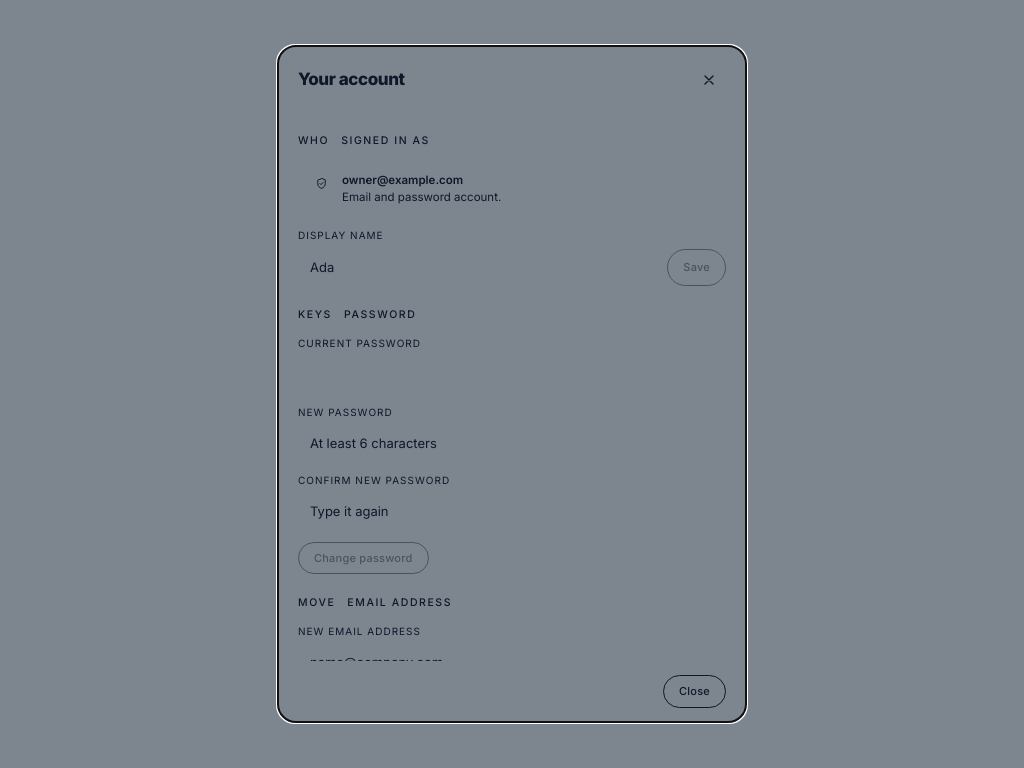
Test: when something fails › reports a success as a status
Replace the text in the field labelled "Display name" with "Ada Lovelace" at (479, 267), box x1=298 y1=249 x2=659 y2=286
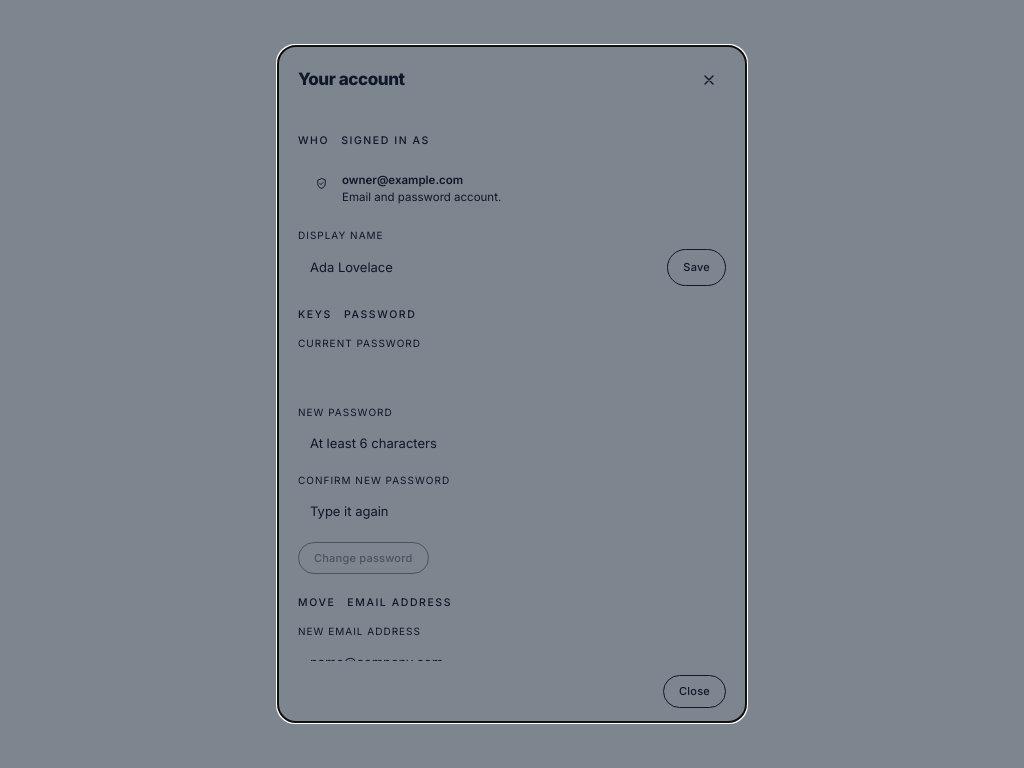
Click the button "Save" at (697, 267), box x1=667 y1=249 x2=726 y2=286
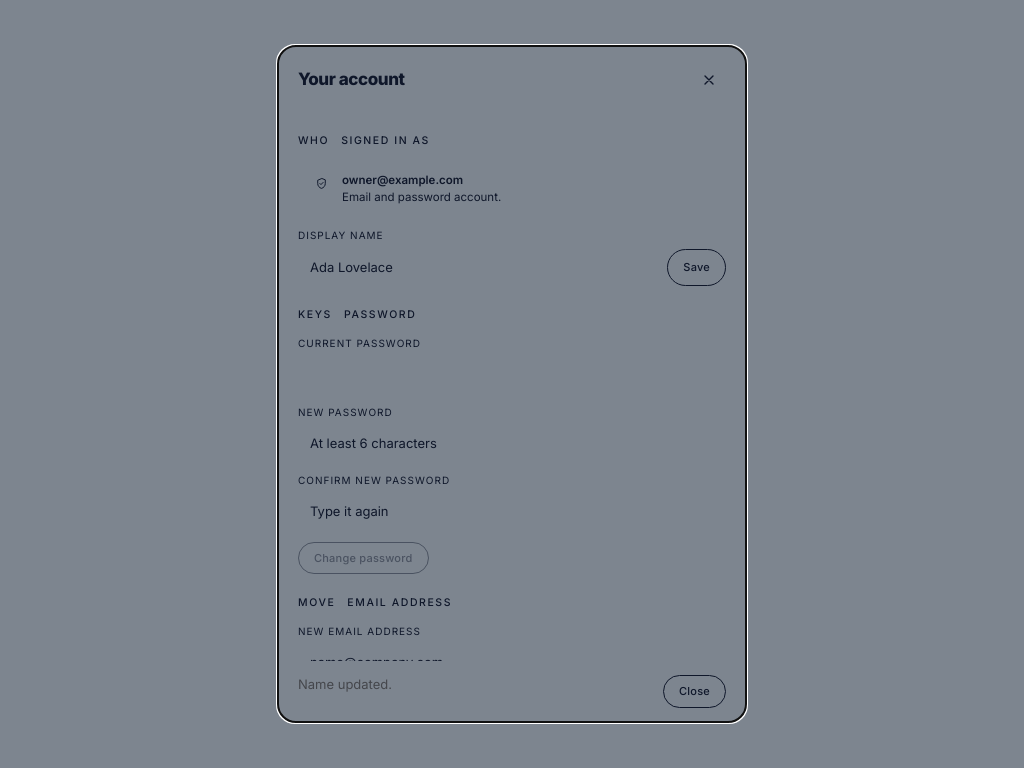
Check: the message shows "Name updated", box x1=298 y1=676 x2=392 y2=692
